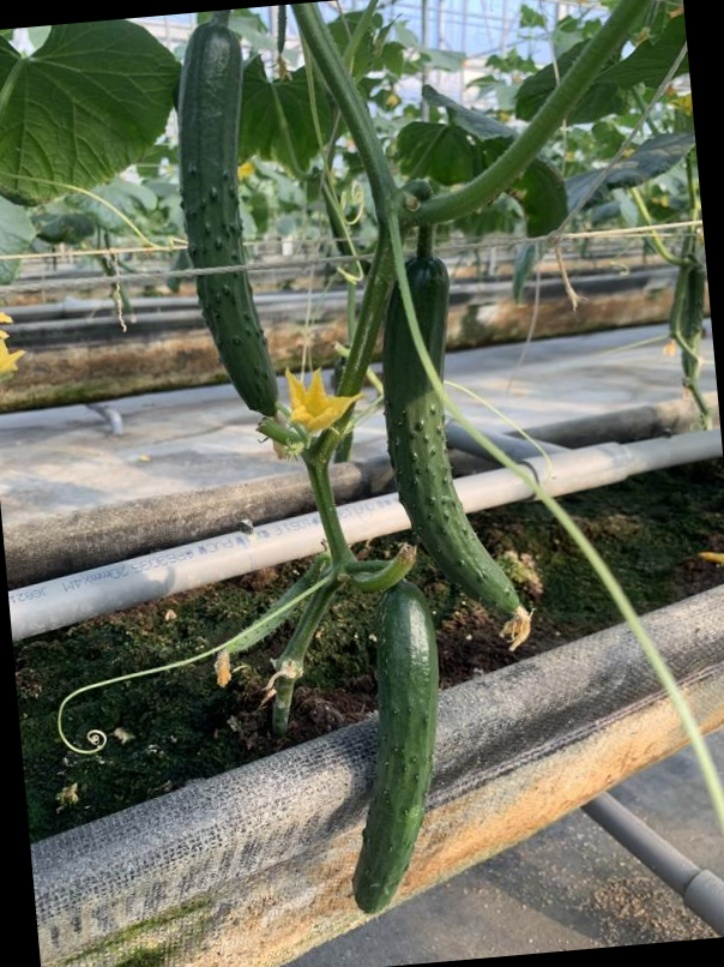mature: (388, 245, 528, 614), (175, 15, 283, 422), (326, 580, 451, 920)
